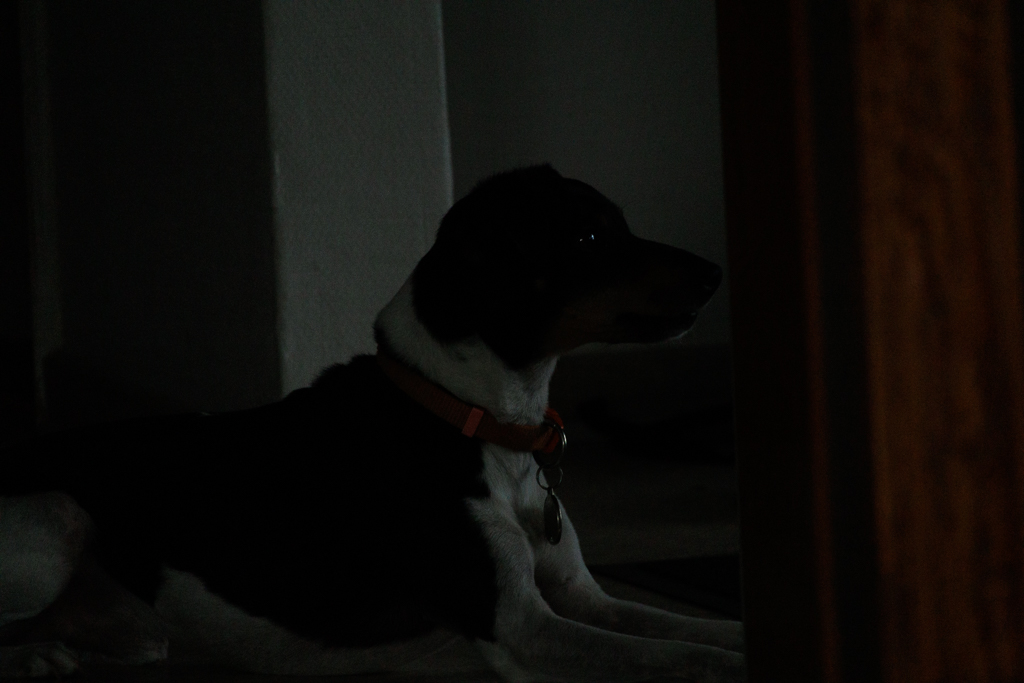Dog: (0, 151, 757, 683)
